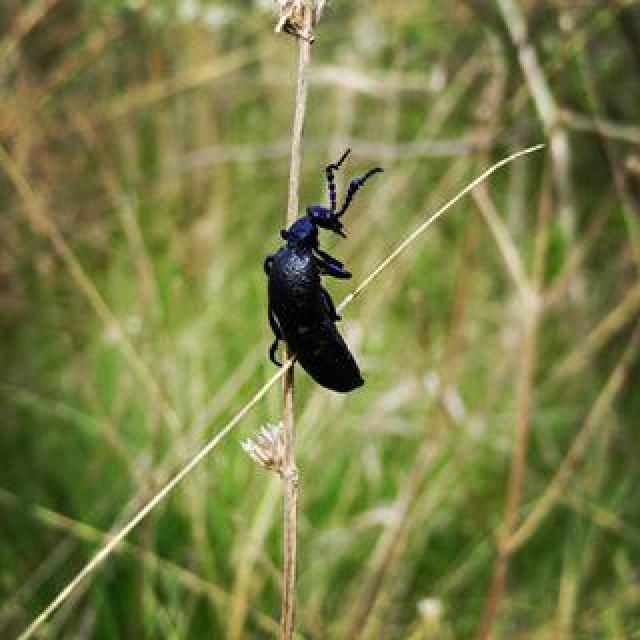BlisterBeetle-Adult-: (259, 133, 380, 399)
